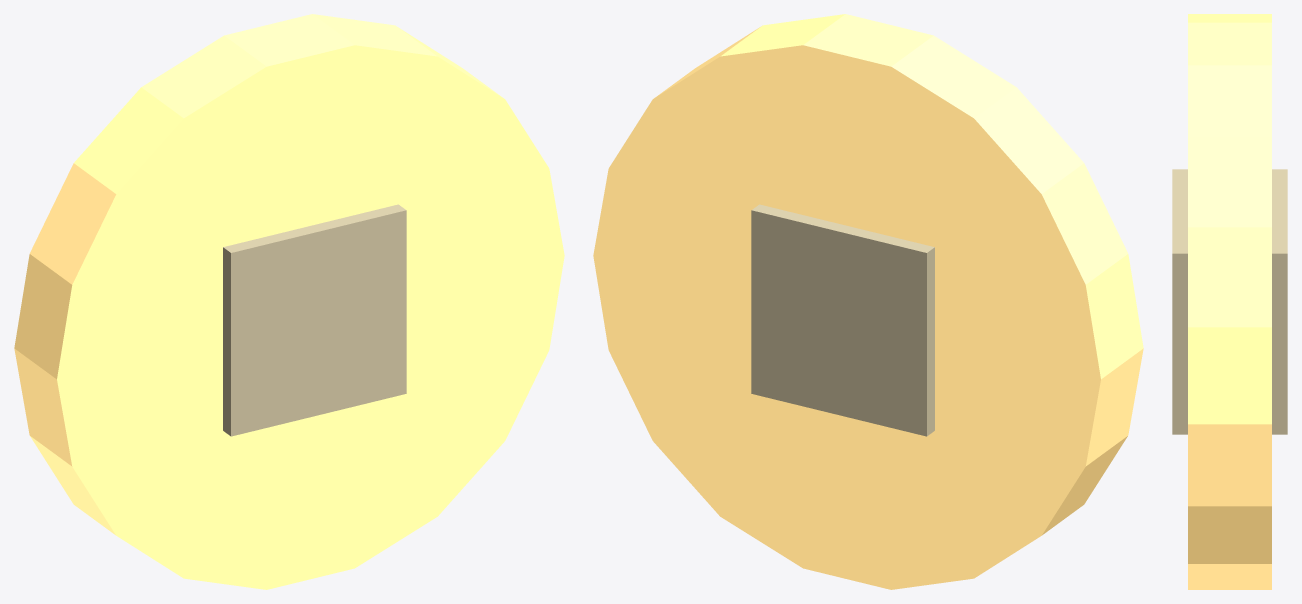
File: coin.glb
The picture shows the model from 3 angles, left to right: view 1: azimuth 30°, elevation 25°; view 2: azimuth 150°, elevation 25°; view 3: azimuth 270°, elevation 25°; orthographic projection.
Size of the model in its own units: 1.1 by 1.08 by 0.22.
